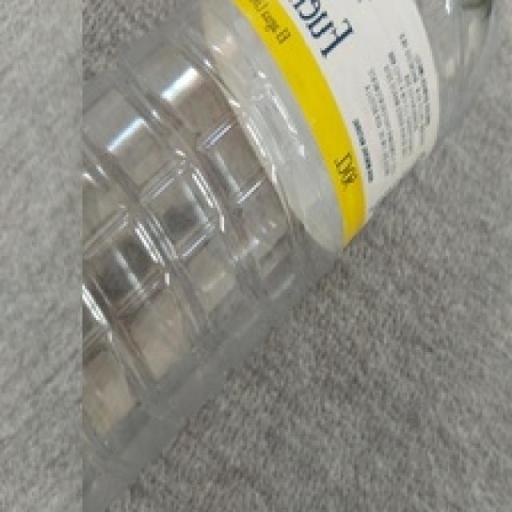plastic: (82, 0, 495, 511)
